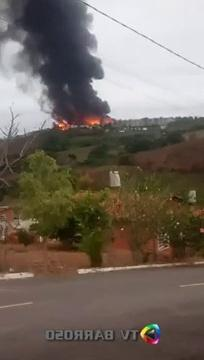fire: (55, 116, 123, 127)
smoke: (22, 0, 88, 112)
